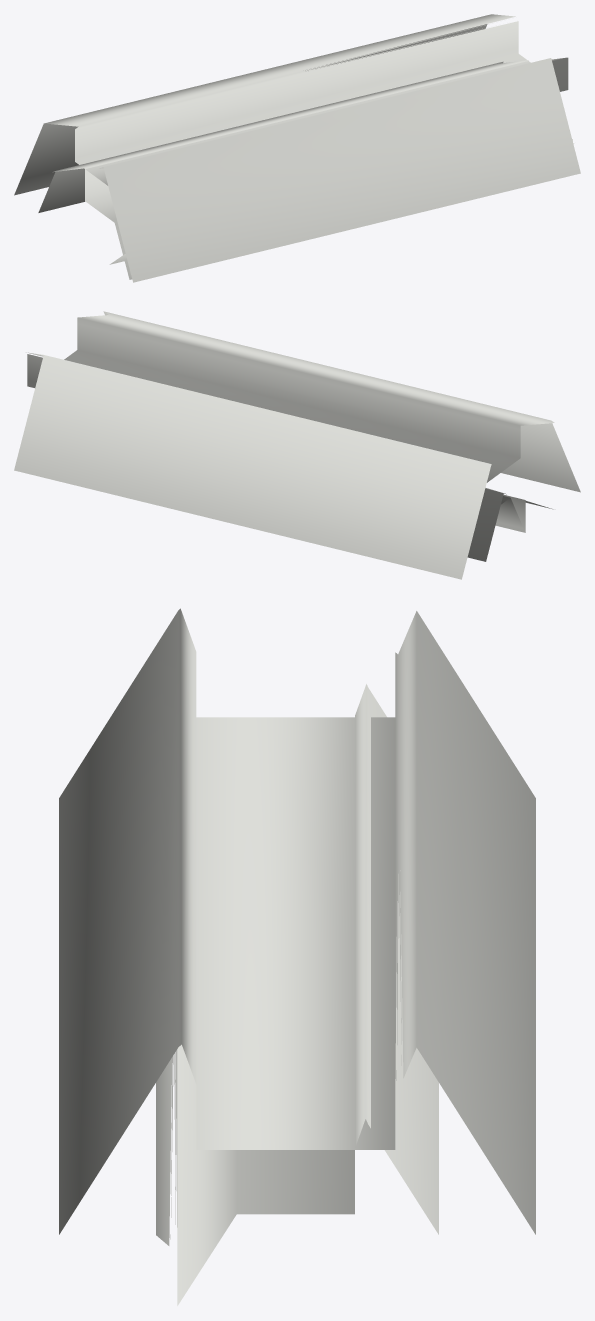
The model's file is iss-truss-p5.glb.
3 views of the same model, one above another, from view 1: azimuth 30°, elevation 25°; view 2: azimuth 150°, elevation 25°; view 3: azimuth 270°, elevation 25° (orthographic). The views are drawn at different scales.
Parts seen in each view (by area): view 1: truss-p5; view 2: truss-p5; view 3: truss-p5.
Part boxes in pixels (box(x1,y1,x2,y2)): truss-p5: box(14, 14, 580, 282); truss-p5: box(14, 311, 580, 579); truss-p5: box(59, 608, 535, 1305).
Size of the model in its own units: 6.81 by 1.63 by 2.95.
Materials: 1 (1 with a texture image).
